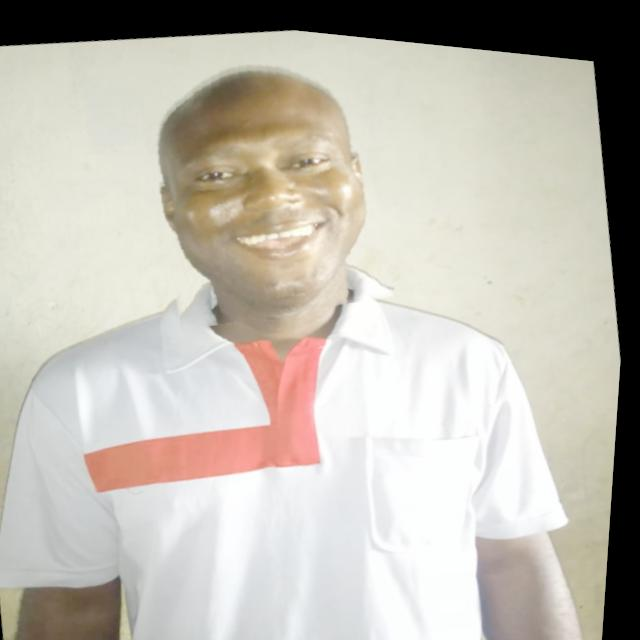happy: (125, 22, 408, 341)
